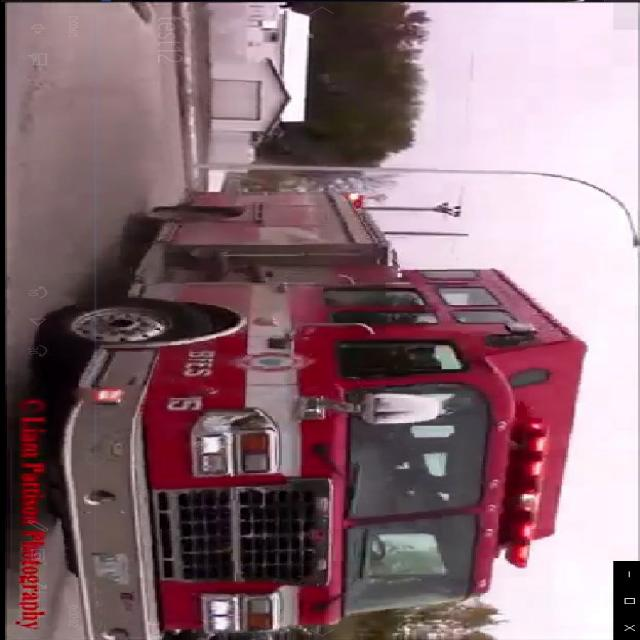emergency: (65, 188, 599, 638)
